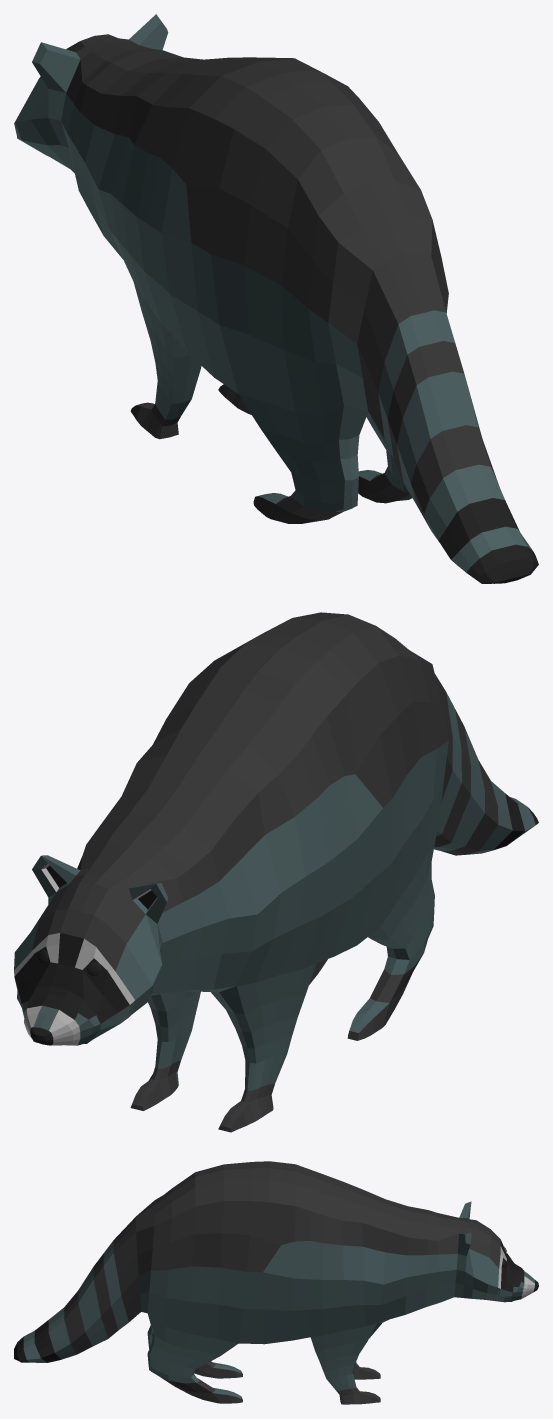
The model's file is racoon.fbx.
The picture shows the model from 3 angles, top to bottom: view 1: azimuth 30°, elevation 25°; view 2: azimuth 150°, elevation 25°; view 3: azimuth 270°, elevation 25°; orthographic projection. The views are drawn at different scales.
Visible parts, largest first — view 1: Plane; view 2: Plane; view 3: Plane.
Part boxes in pixels (bbox=[...]): Plane: bbox=[14, 14, 538, 583]; Plane: bbox=[14, 612, 538, 1132]; Plane: bbox=[14, 1161, 538, 1404].
Bounding box in the file's own units: 83.31 × 163 × 351.
